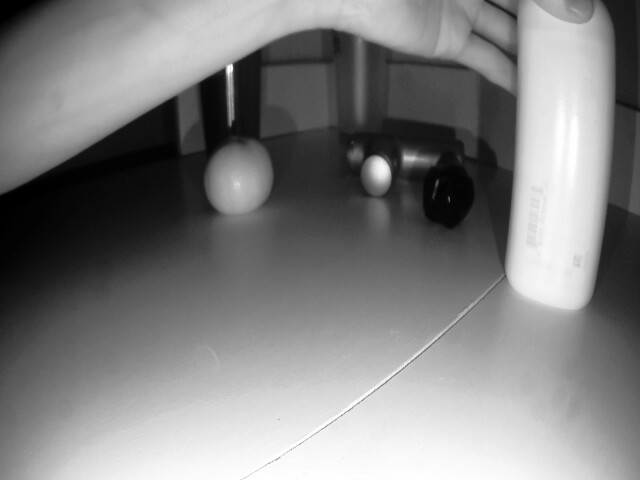silver: (424, 161, 470, 224)
